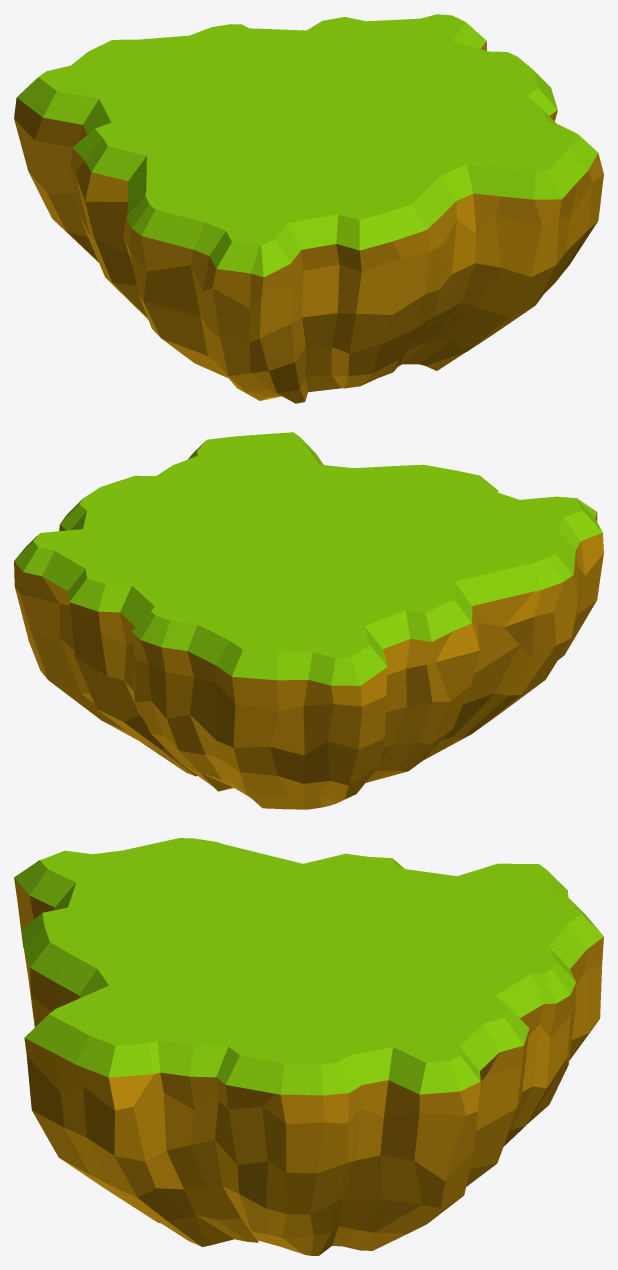
Rendered from land1.fbx.
3 renders of one model, top to bottom at view 1: azimuth 30°, elevation 25°; view 2: azimuth 150°, elevation 25°; view 3: azimuth 270°, elevation 25°, orthographic. The views are drawn at different scales.
Visible parts, largest first — view 1: Plane; view 2: Plane; view 3: Plane.
Boxes of the visible parts, box(x1,y1,x2,y2) form: Plane: box(14, 14, 603, 403); Plane: box(14, 432, 603, 809); Plane: box(14, 838, 603, 1255).
Size of the model in its own units: 249 by 114 by 253.
1 material, 1 textured.
